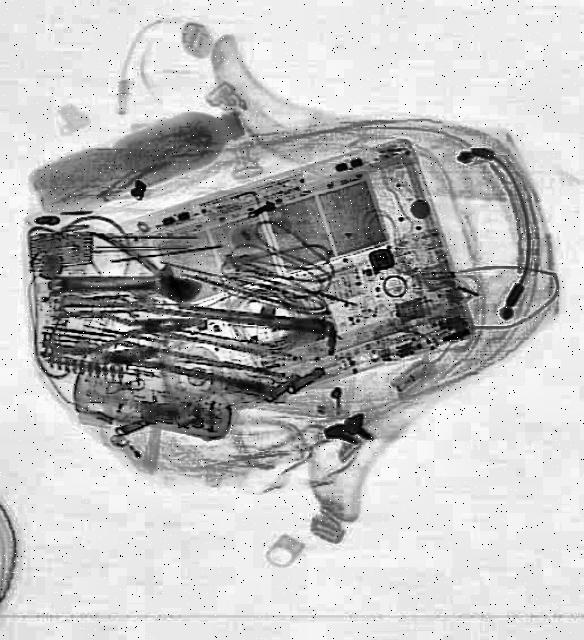Pliers: (55, 301, 199, 359)
